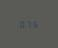seven: (25, 19, 30, 28)
six: (31, 20, 36, 28)
zero: (18, 19, 23, 27)
